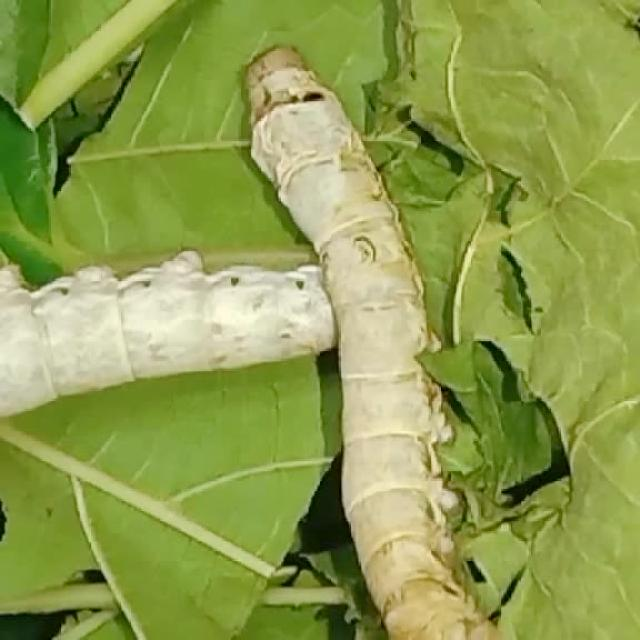Grasserie: (246, 45, 564, 640)
